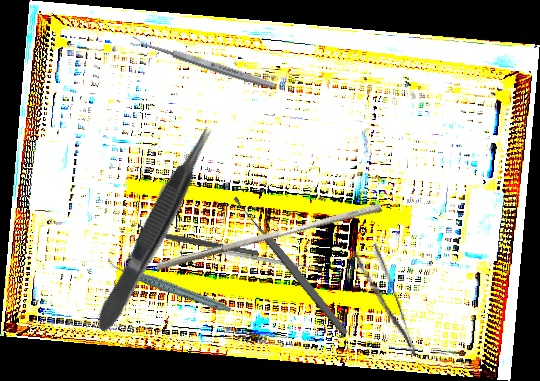Dressing Forceps: (351, 242, 420, 364)
Fixation Ring: (135, 222, 260, 264)
Handpiece: (105, 234, 233, 336)
Pusher: (155, 195, 383, 280), (206, 247, 326, 273)
Surgical Spoon: (231, 194, 350, 337), (130, 35, 276, 91)
Tissue Forceps: (87, 121, 222, 336)
